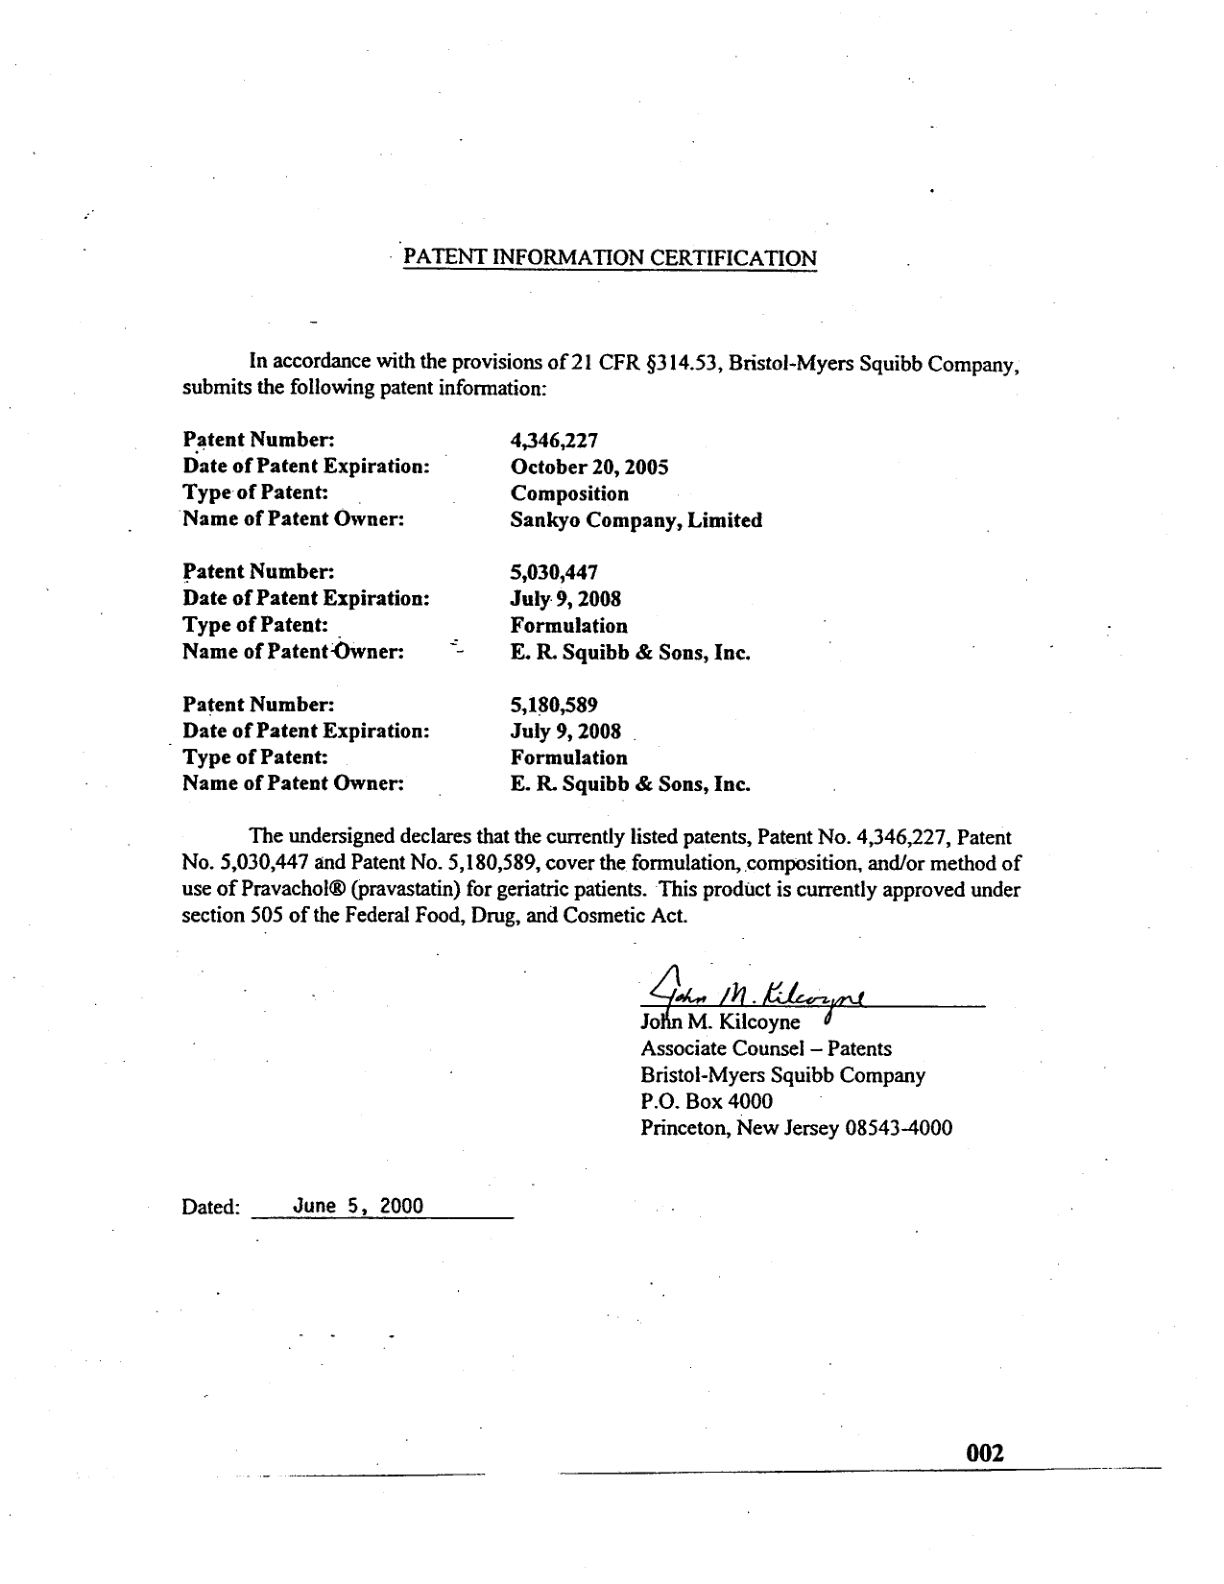nolines: (179, 427, 769, 795)
